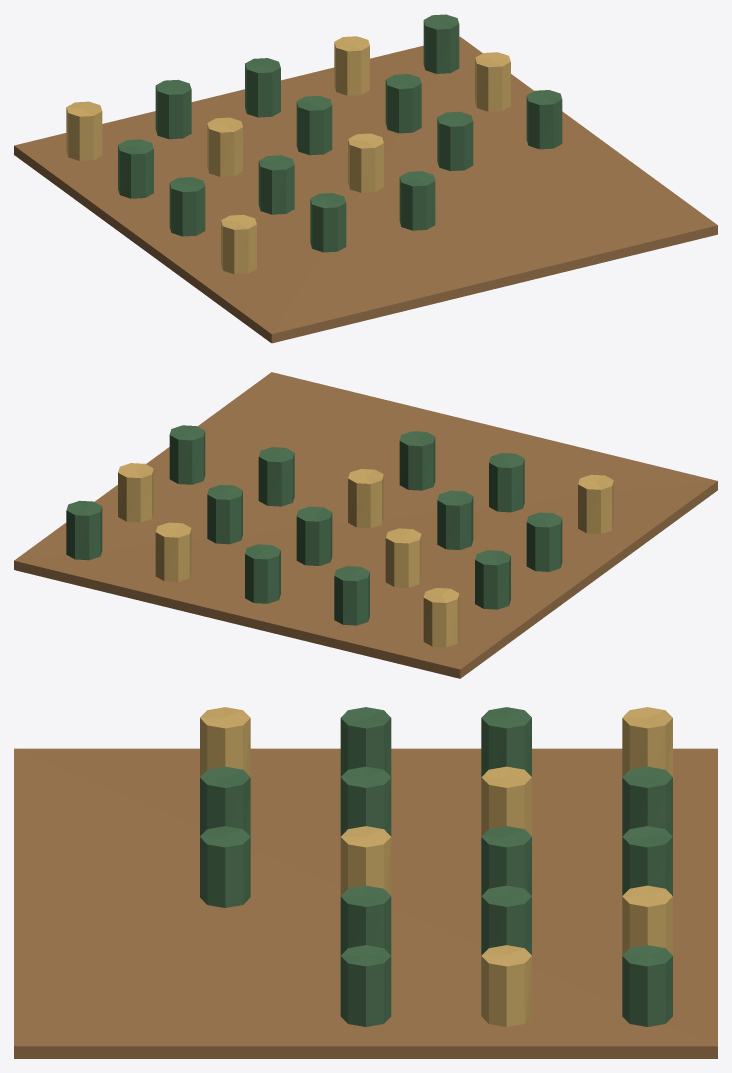
Rendered from rewilded-field.source.glb.
3 views of the same model, one above another, from view 1: azimuth 30°, elevation 25°; view 2: azimuth 150°, elevation 25°; view 3: azimuth 270°, elevation 25° (orthographic). The views are drawn at different scales.
Visible parts, largest first — view 1: rewilded-field-ground-mesh, rewilded-field-plant-10-mesh, rewilded-field-plant-4-mesh, rewilded-field-plant-16-mesh, rewilded-field-plant-7-mesh, rewilded-field-plant-11-mesh, rewilded-field-plant-17-mesh, rewilded-field-plant-1-mesh, rewilded-field-plant-14-mesh, rewilded-field-plant-0-mesh, rewilded-field-plant-8-mesh, rewilded-field-plant-13-mesh (+7 smaller); view 2: rewilded-field-ground-mesh, rewilded-field-plant-10-mesh, rewilded-field-plant-6-mesh, rewilded-field-plant-13-mesh, rewilded-field-plant-14-mesh, rewilded-field-plant-17-mesh, rewilded-field-plant-4-mesh, rewilded-field-plant-3-mesh, rewilded-field-plant-7-mesh, rewilded-field-plant-11-mesh, rewilded-field-plant-0-mesh, rewilded-field-plant-2-mesh (+7 smaller); view 3: rewilded-field-ground-mesh, rewilded-field-plant-14-mesh, rewilded-field-plant-17-mesh, rewilded-field-plant-4-mesh, rewilded-field-plant-9-mesh, rewilded-field-plant-10-mesh, rewilded-field-plant-12-mesh, rewilded-field-plant-11-mesh, rewilded-field-plant-13-mesh, rewilded-field-plant-1-mesh, rewilded-field-plant-3-mesh, rewilded-field-plant-5-mesh (+7 smaller).
Boxes of the visible parts, x1,y1,x2,y2 form: rewilded-field-ground-mesh: (14, 36, 717, 343); rewilded-field-plant-10-mesh: (169, 177, 205, 236); rewilded-field-plant-4-mesh: (423, 14, 459, 73); rewilded-field-plant-16-mesh: (310, 193, 346, 252); rewilded-field-plant-7-mesh: (296, 95, 332, 155); rewilded-field-plant-11-mesh: (258, 155, 294, 214); rewilded-field-plant-17-mesh: (399, 171, 435, 230); rewilded-field-plant-1-mesh: (155, 79, 191, 139); rewilded-field-plant-14-mesh: (526, 90, 562, 149); rewilded-field-plant-0-mesh: (66, 101, 102, 160); rewilded-field-plant-8-mesh: (385, 74, 421, 133); rewilded-field-plant-13-mesh: (437, 111, 473, 171); rewilded-field-ground-mesh: (14, 372, 717, 678); rewilded-field-plant-10-mesh: (526, 512, 562, 571); rewilded-field-plant-6-mesh: (385, 528, 421, 587); rewilded-field-plant-13-mesh: (258, 447, 294, 506); rewilded-field-plant-14-mesh: (169, 425, 205, 484); rewilded-field-plant-17-mesh: (399, 431, 435, 490); rewilded-field-plant-4-mesh: (66, 500, 102, 560); rewilded-field-plant-3-mesh: (155, 522, 191, 581); rewilded-field-plant-7-mesh: (296, 506, 332, 565); rewilded-field-plant-11-mesh: (437, 490, 473, 549); rewilded-field-plant-0-mesh: (423, 588, 459, 647); rewilded-field-plant-2-mesh: (245, 544, 280, 603); rewilded-field-ground-mesh: (14, 748, 717, 1058); rewilded-field-plant-14-mesh: (340, 945, 391, 1026); rewilded-field-plant-17-mesh: (200, 826, 250, 907); rewilded-field-plant-4-mesh: (622, 945, 672, 1026); rewilded-field-plant-9-mesh: (481, 945, 531, 1026); rewilded-field-plant-10-mesh: (340, 707, 391, 776); rewilded-field-plant-12-mesh: (340, 826, 391, 895); rewilded-field-plant-11-mesh: (340, 766, 391, 836); rewilded-field-plant-13-mesh: (340, 885, 391, 955); rewilded-field-plant-1-mesh: (622, 766, 672, 836); rewilded-field-plant-3-mesh: (622, 885, 672, 955); rewilded-field-plant-5-mesh: (481, 707, 531, 776).
Size of the model in its own units: 5 by 0.575 by 5.
